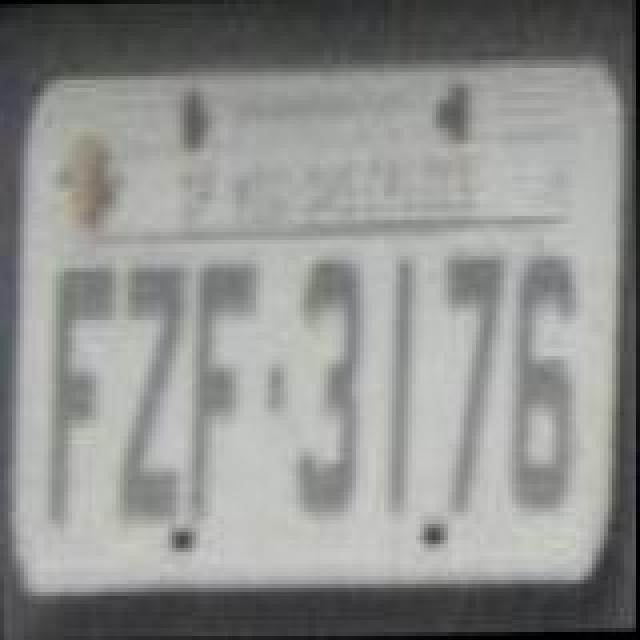1: (380, 258, 420, 518)
3: (288, 256, 368, 524)
6: (506, 250, 582, 518)
7: (440, 254, 512, 522)
F: (46, 262, 122, 530), (186, 262, 262, 522)
Z: (118, 264, 194, 524)
